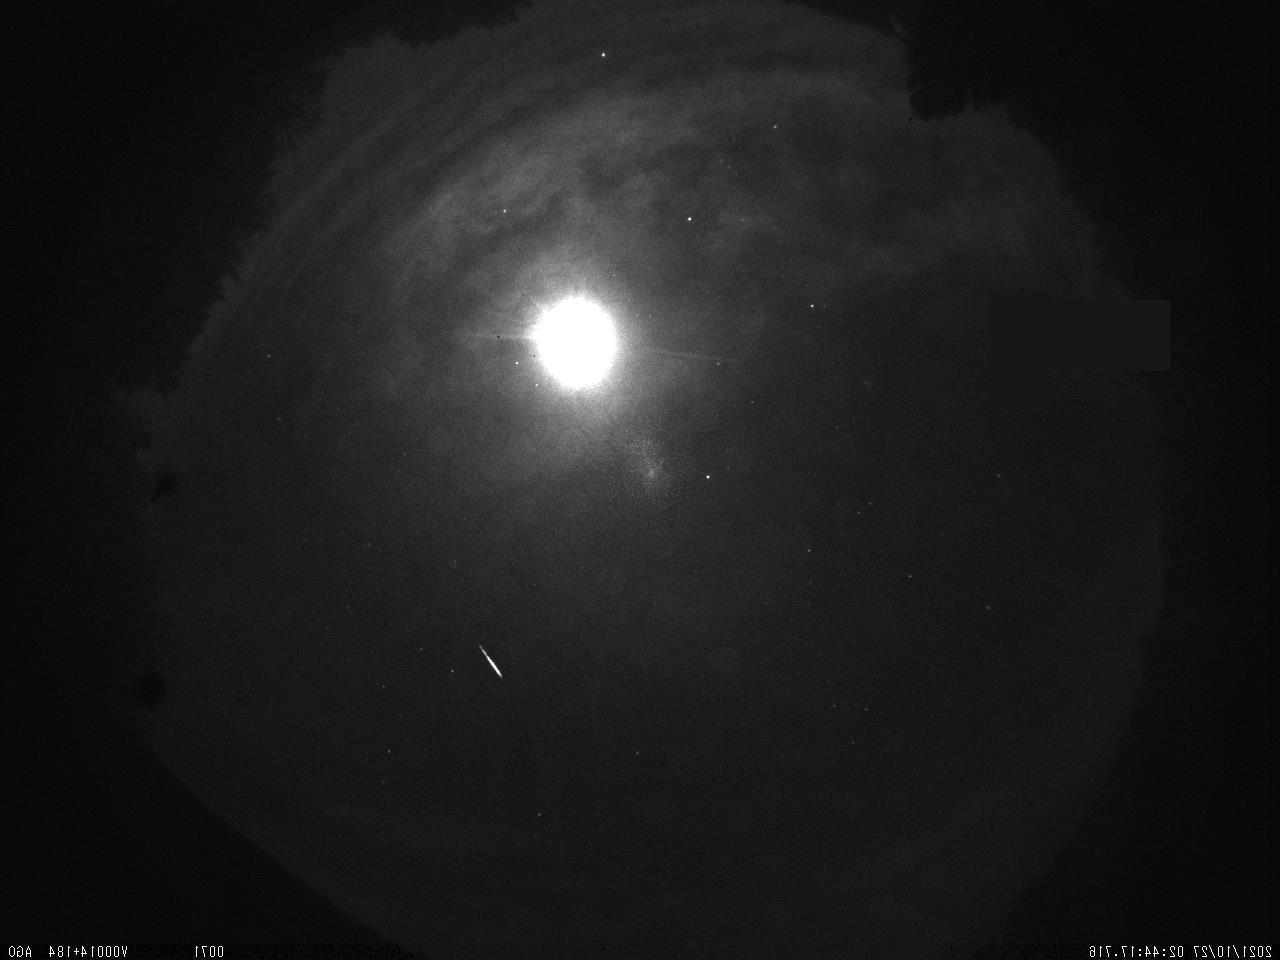meteor: (455, 624, 522, 695)
